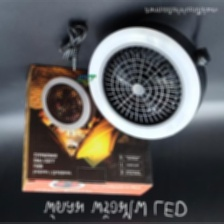book: (17, 59, 157, 200)
